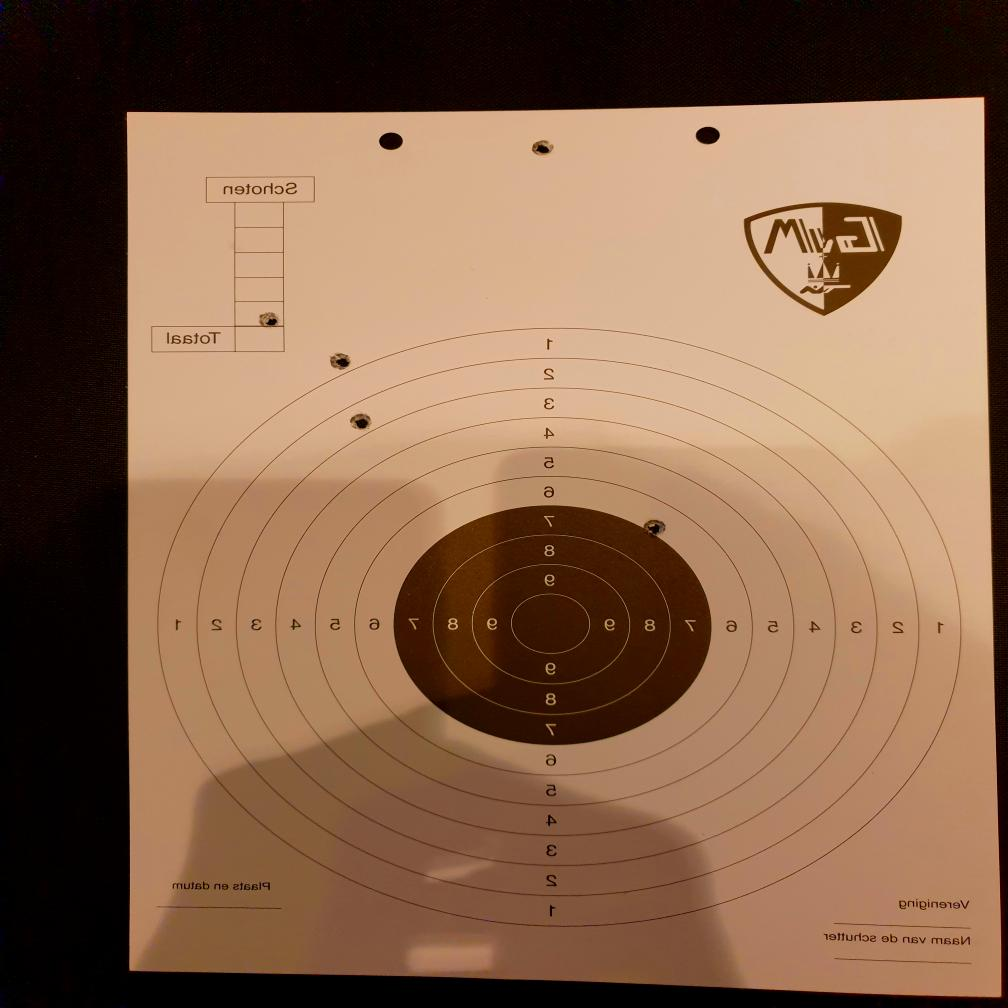0: (328, 351, 353, 370), (530, 141, 556, 157), (257, 312, 280, 328)
2: (349, 410, 371, 432)
7: (642, 519, 667, 538)
Target: (154, 326, 962, 930)
black_contour: (394, 504, 712, 747)
